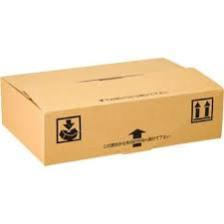cardboard: (0, 62, 219, 180)
